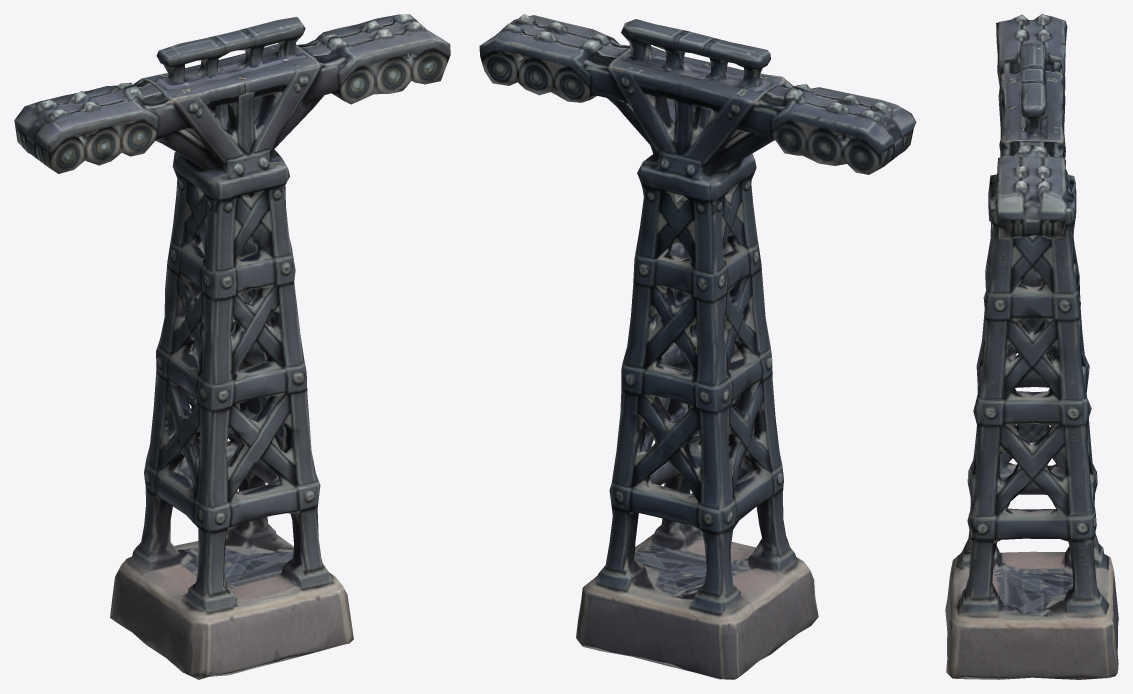
3 views of the same model, side by side, from view 1: azimuth 30°, elevation 25°; view 2: azimuth 150°, elevation 25°; view 3: azimuth 270°, elevation 25° (orthographic). The views are drawn at different scales.
Parts seen in each view (by area): view 1: texture_mapping; view 2: texture_mapping; view 3: texture_mapping.
Boxes of the visible parts, x1,y1,x2,y2 form: texture_mapping: (14, 14, 450, 679); texture_mapping: (479, 14, 916, 679); texture_mapping: (945, 14, 1118, 679).
Size of the model in its own units: 0.7116 by 1 by 0.2767.
Materials: 1 (1 with a texture image).
